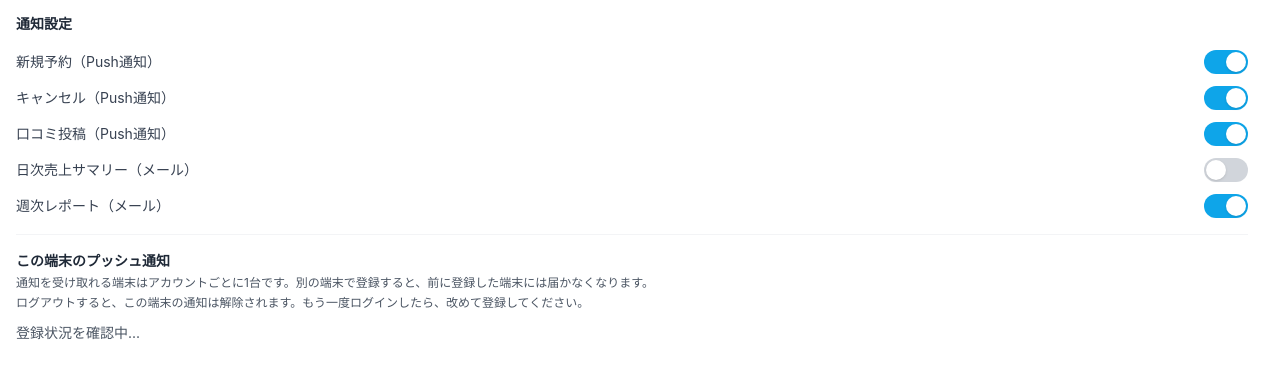
it: upsert 成功 → トグルが反映されエラーは出さない
Click the switch named "新規予約（Push通知）".
click(1226, 62)  # box [1204,50,1248,74]
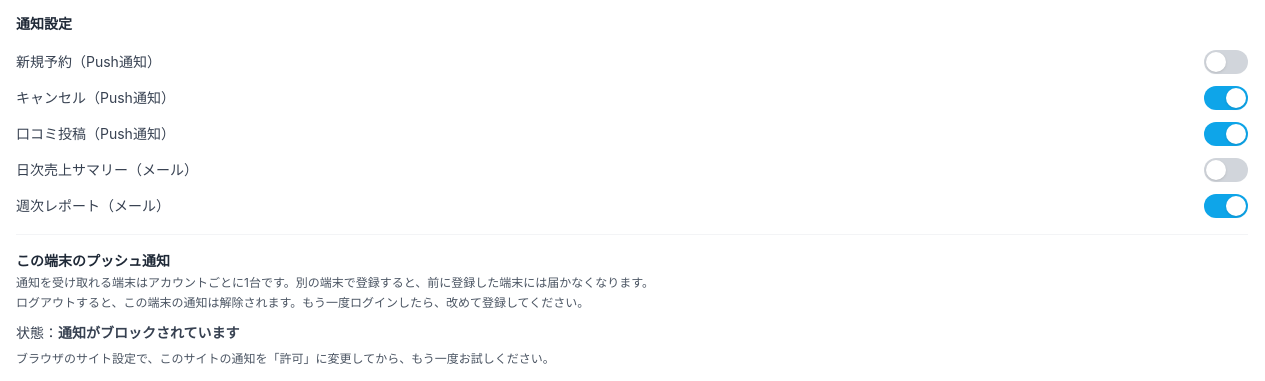
Check: the message "登録状況を確認中..." is gone
